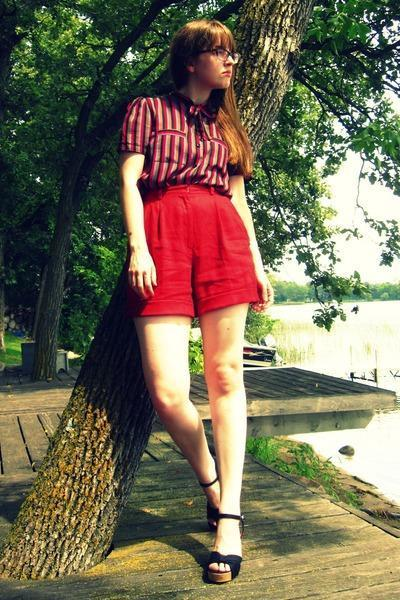shirt: (124, 89, 247, 203)
shoe: (210, 555, 248, 580)
shorts: (138, 185, 269, 323)
